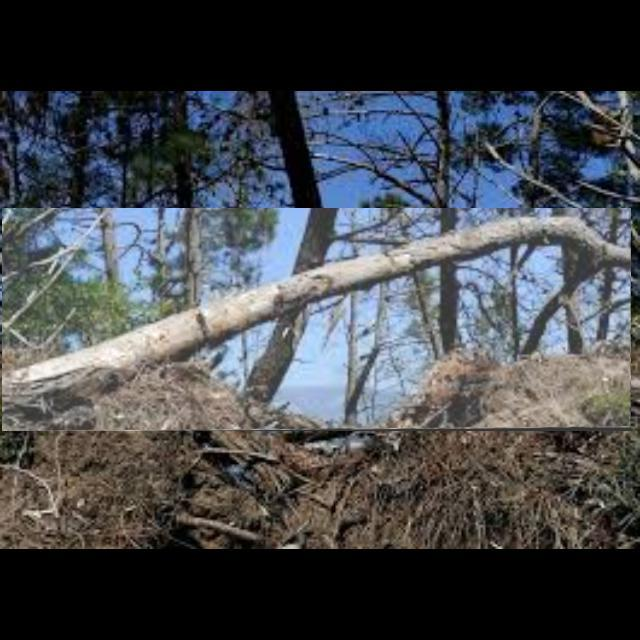fallen_tree: (2, 208, 632, 432)
